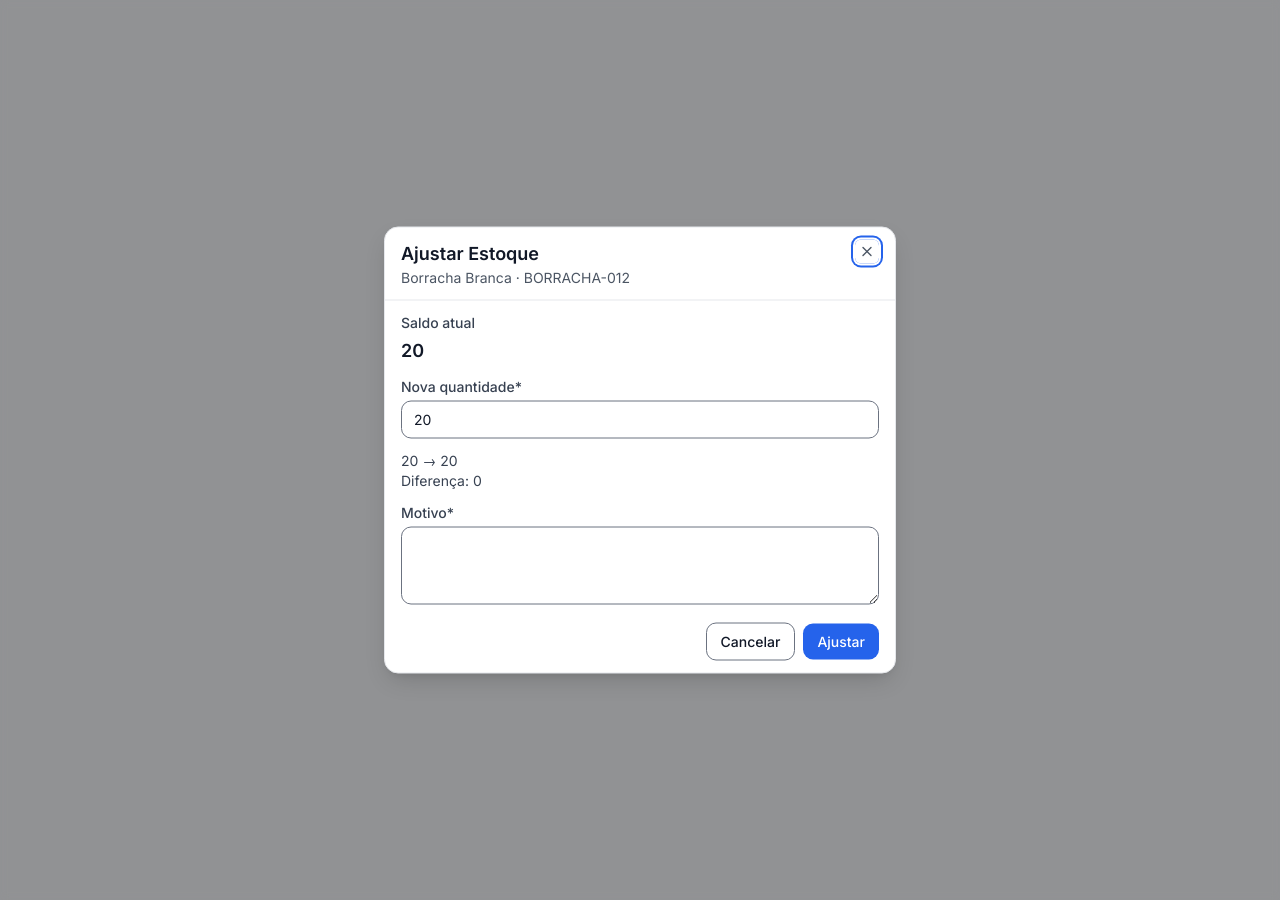
Test: AdjustmentFormModal — formulário e confirmação (Task 4) › rejeita alvo negativo com erro inline, sem avançar
Clear the number field labelled "Nova quantidade*" at point(640, 420), box [401,400,879,438]
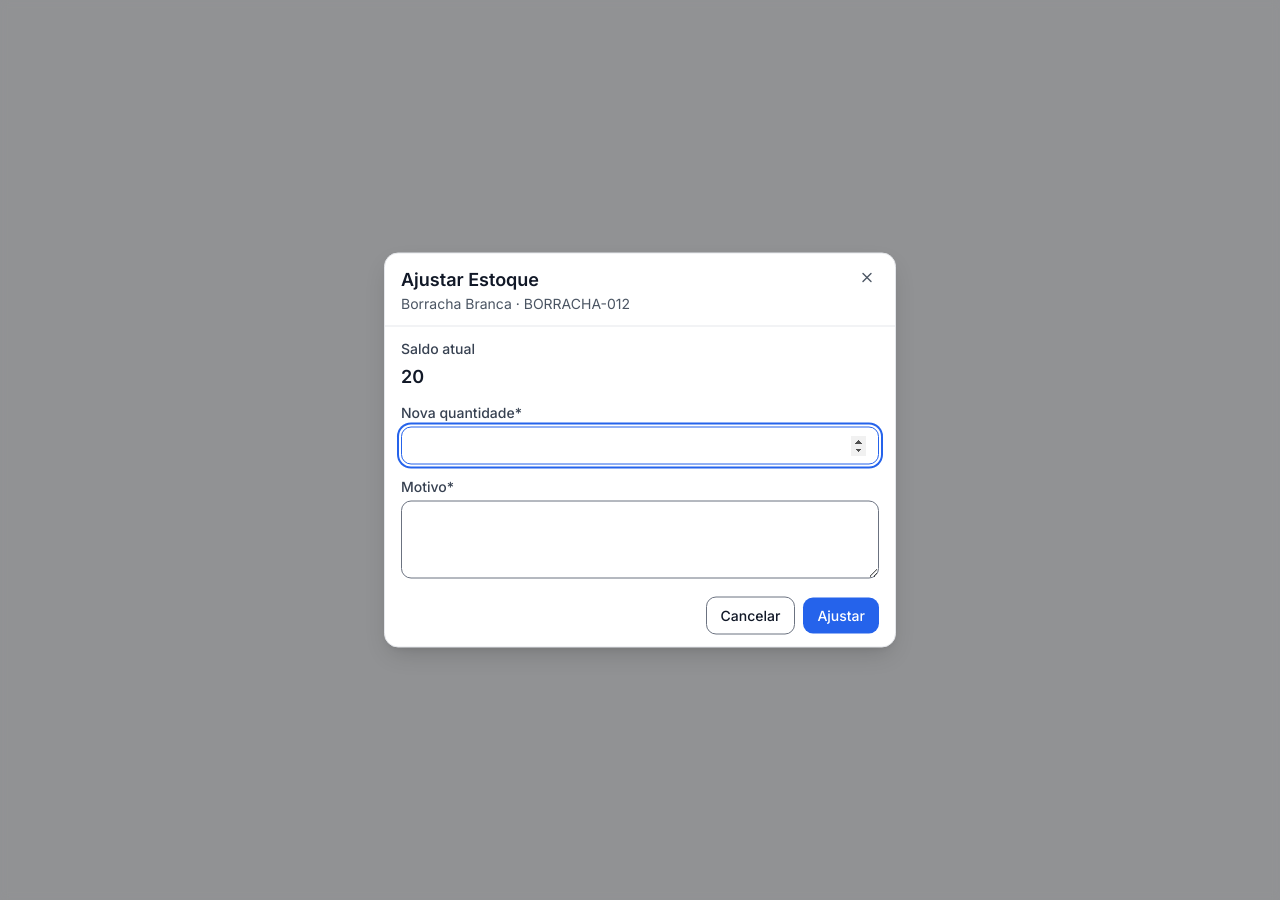
Type "-1" into the number field labelled "Nova quantidade*" at point(640, 446), box [401,426,879,464]
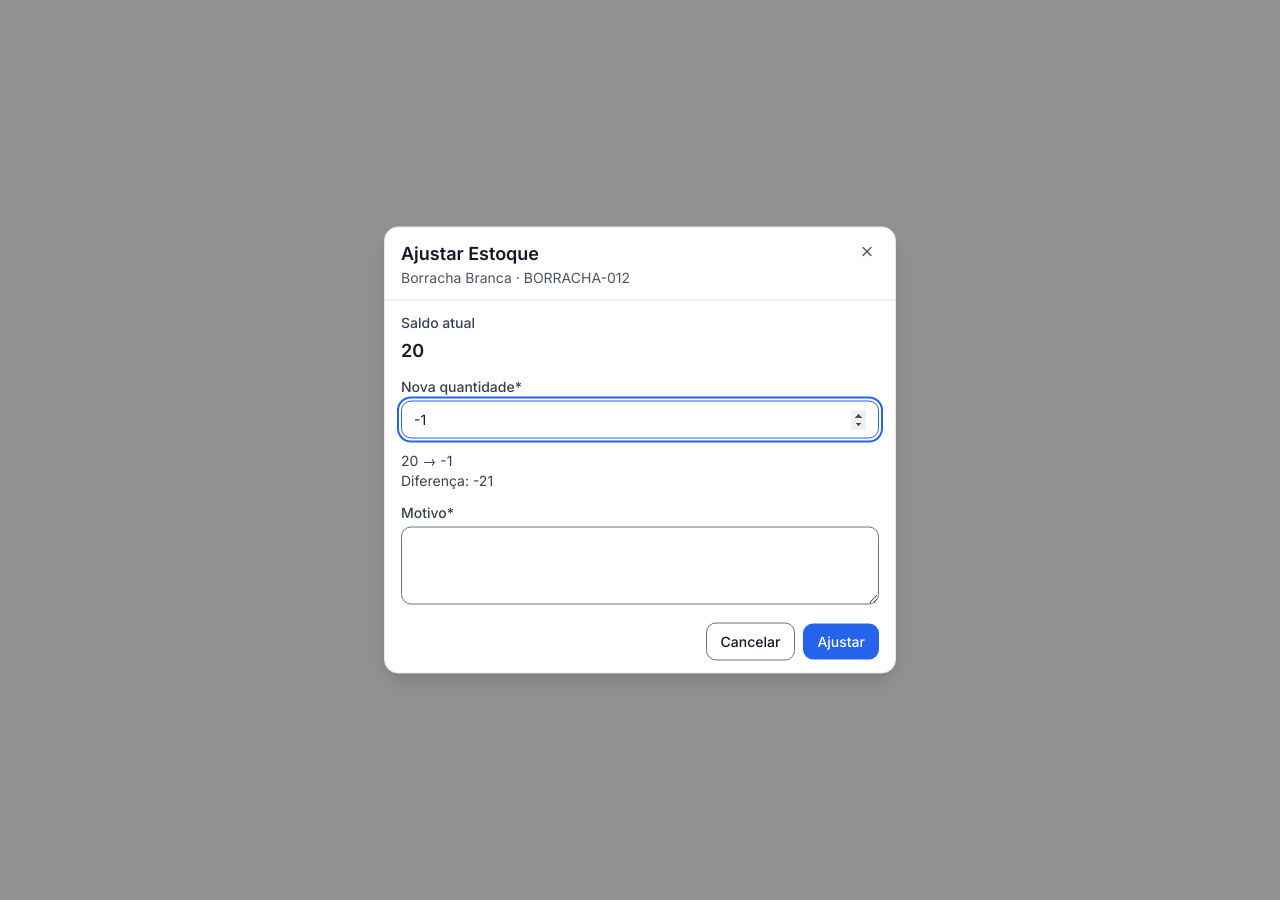
Type "Motivo válido" into the text box labelled "Motivo*" at point(640, 566), box [401,526,879,604]
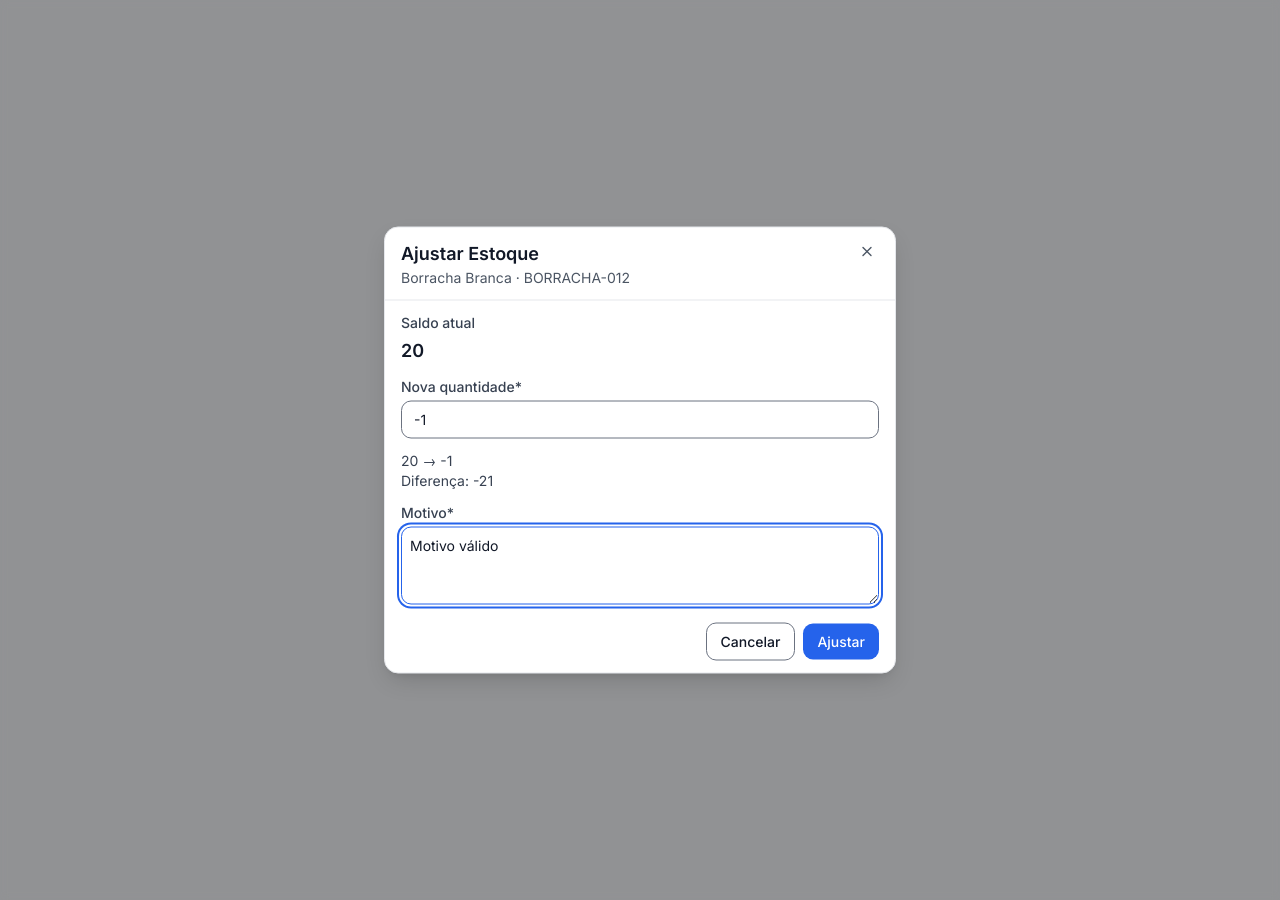
Click the button "Ajustar" at point(841, 642), box [803,624,879,660]
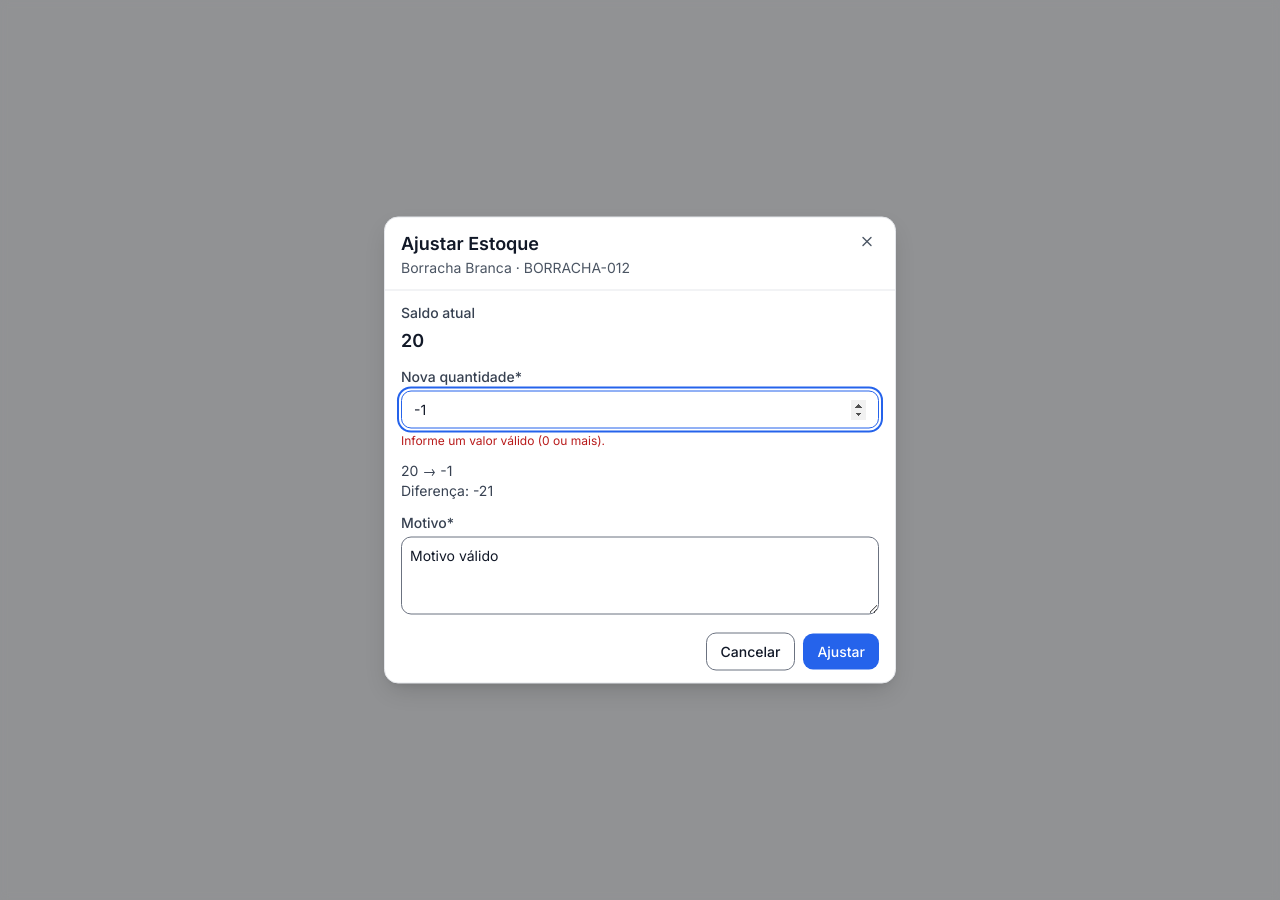
Now the text "Informe um valor válido (0 ou mais)." is shown, box [401,432,605,448]
